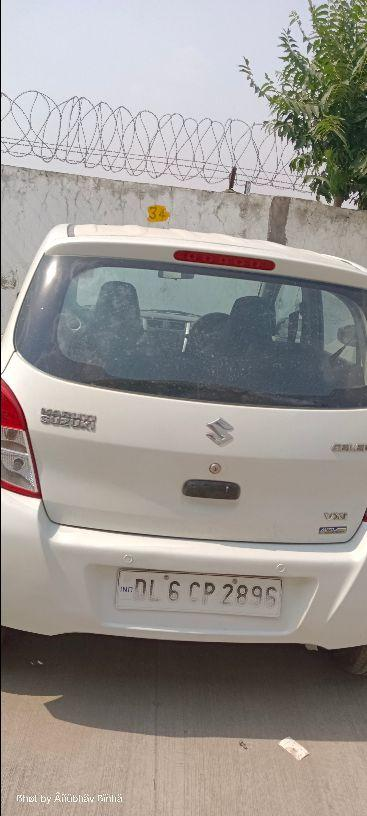license_plate: (113, 567, 283, 618)
